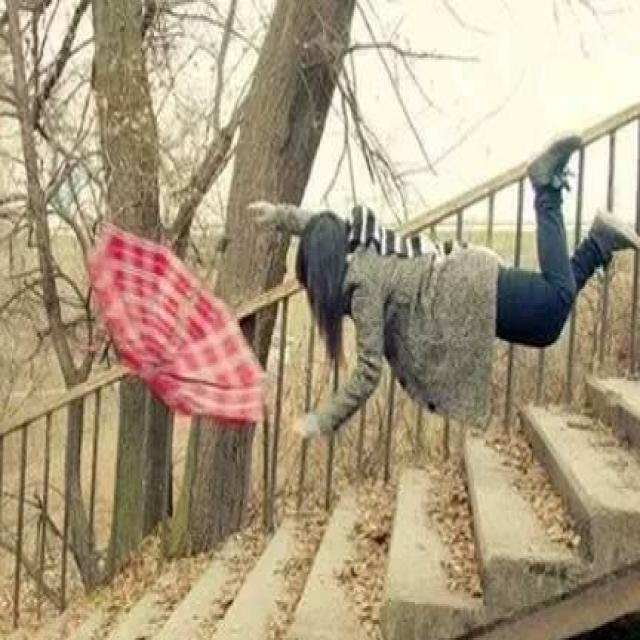fall: (246, 170, 603, 420)
